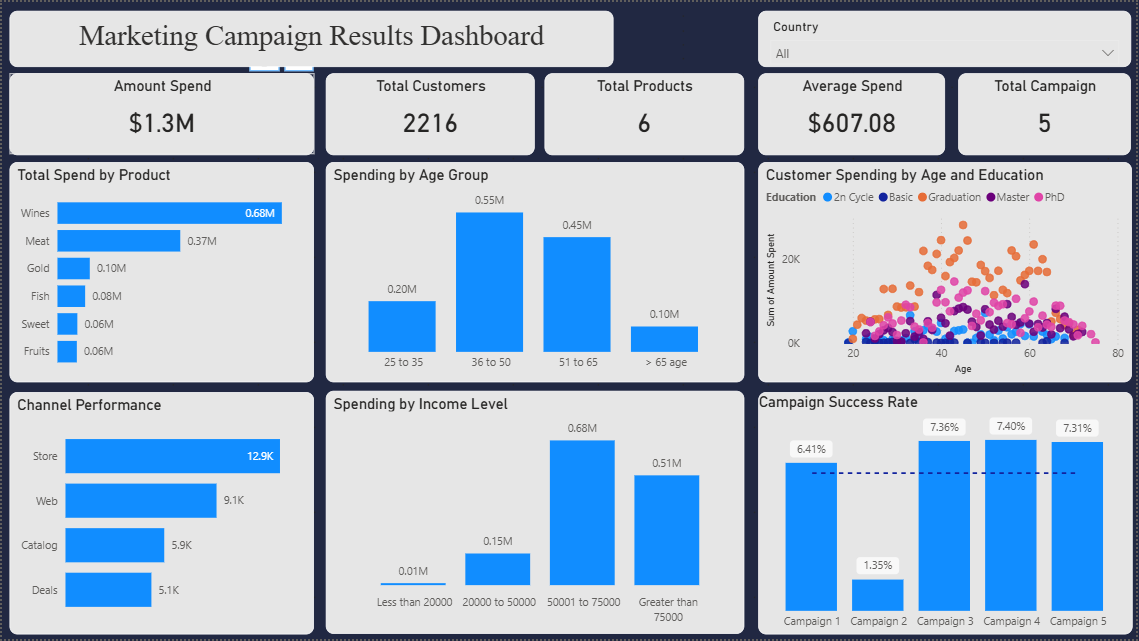

Layout of this report page (visuals, bound fields, positions):
{"tool":"powerbi","page":{"name":"Page 1","canvas":[1280,720],"ordinal":0},"visuals":[{"type":"card","title":"Total Customers","fields":{"Values":["CountNonNull(marketing_data.ID)"]},"box":[363.6,79.6,234.6,91.9],"z":0},{"type":"card","title":"Total Products","fields":{"Values":["MarketingData.Total Products"]},"box":[609.3,79.6,223.7,91.9],"z":1000},{"type":"card","title":"Average Spend","fields":{"Values":["MarketingData.Avg Spend per Customer"]},"box":[848,79.6,209.9,91.9],"z":2000},{"type":"card","title":"Total Campaign","fields":{"Values":["MarketingData.Total Campaign"]},"box":[1073.1,79.6,193.5,91.9],"z":3000},{"type":"card","title":"Amount Spend  ","fields":{"Values":["MarketingData.Total Revenue"]},"box":[8.2,79.6,341.7,91.9],"z":4000},{"type":"barChart","title":"Total Spend by Product","fields":{"Y":["Products.Total Spend by Product"],"Category":["Products.Product"]},"box":[8.2,179.8,341.7,247],"z":5000},{"type":"barChart","title":"Channel Performance","fields":{"Y":["Channels.Total by Channel"],"Category":["Channels.Channel"]},"box":[8.2,437.7,341.7,271.7],"z":6000},{"type":"textbox","box":[8.2,9.6,677.9,63.1],"z":7000},{"type":"columnChart","title":"Spending by Age Group","fields":{"Y":["MarketingData.Amount Spent"],"Category":["MarketingData.Age Group"]},"box":[363.6,179.8,469.3,247],"z":8000},{"type":"columnChart","title":"Spending by Income Level","fields":{"Y":["MarketingData.Amount Spent"],"Category":["MarketingData.Income brackets"]},"box":[363.6,436.4,469.3,273.1],"z":9000},{"type":"scatterChart","title":"Customer Spending by Age and Education","fields":{"Y":["Sum(MarketingData.Amount Spent )"],"X":["MarketingData.Age"],"Series":["MarketingData.Education"]},"box":[847.7,180,419.2,246.9],"z":10000},{"type":"lineStackedColumnComboChart","title":"Campaign Success Rate","fields":{"Category":["Campaigns.Campaign"],"Y":["Campaigns.Campaign Success Rate"],"Y2":["Campaigns.Overall Campaign Success Rate"]},"box":[848,437.7,419.9,271.7],"z":11000},{"type":"slicer","fields":{"Values":["MarketingData.Country"]},"box":[848,9.6,418.5,63.1],"z":12000}]}

Visuals, with their boxes in screenshot pixels (x1, y1, x2, y2), scaled from the page's 1280x720 canvas onto the 1139x641 screenshot:
"Total Customers" card: {"x1": 324, "y1": 71, "x2": 532, "y2": 153}
"Total Products" card: {"x1": 542, "y1": 71, "x2": 741, "y2": 153}
"Average Spend" card: {"x1": 755, "y1": 71, "x2": 941, "y2": 153}
"Total Campaign" card: {"x1": 955, "y1": 71, "x2": 1127, "y2": 153}
"Amount Spend  " card: {"x1": 7, "y1": 71, "x2": 311, "y2": 153}
"Total Spend by Product" barChart: {"x1": 7, "y1": 160, "x2": 311, "y2": 380}
"Channel Performance" barChart: {"x1": 7, "y1": 390, "x2": 311, "y2": 632}
textbox: {"x1": 7, "y1": 9, "x2": 611, "y2": 65}
"Spending by Age Group" columnChart: {"x1": 324, "y1": 160, "x2": 741, "y2": 380}
"Spending by Income Level" columnChart: {"x1": 324, "y1": 389, "x2": 741, "y2": 632}
"Customer Spending by Age and Education" scatterChart: {"x1": 754, "y1": 160, "x2": 1127, "y2": 380}
"Campaign Success Rate" lineStackedColumnComboChart: {"x1": 755, "y1": 390, "x2": 1128, "y2": 632}
slicer - MarketingData.Country: {"x1": 755, "y1": 9, "x2": 1127, "y2": 65}
